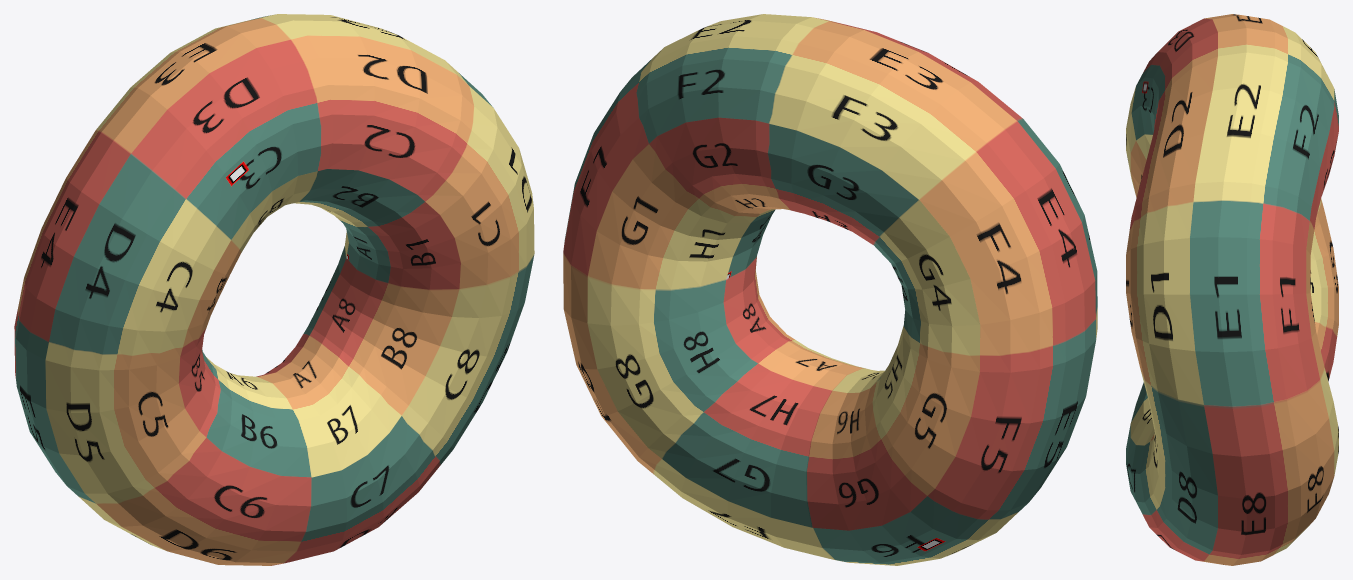
3 renders of one model, left to right at view 1: azimuth 30°, elevation 25°; view 2: azimuth 150°, elevation 25°; view 3: azimuth 270°, elevation 25°, orthographic. The views are drawn at different scales.
Visible parts, largest first — view 1: Node-Mesh; view 2: Node-Mesh; view 3: Node-Mesh.
Boxes of the visible parts, bbox=[...] form: Node-Mesh: bbox=[14, 14, 534, 565]; Node-Mesh: bbox=[563, 14, 1097, 565]; Node-Mesh: bbox=[1126, 14, 1338, 565].
Size of the model in its own units: 3 by 2.98 by 1.15.
1 material, 1 textured.
